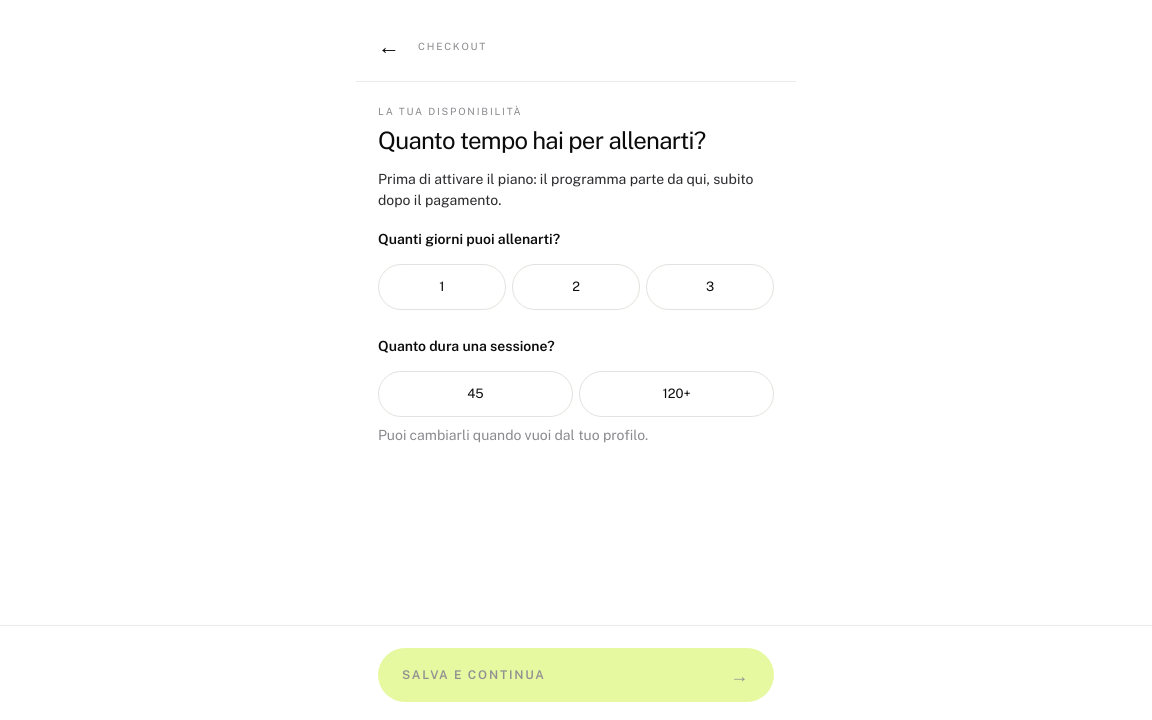
Disponibilità prima del programma › asks days and duration before the checkout, then shows the offer
Expected: the heading "Quanto tempo hai per allenarti?" is shown, [378,126,706,154]
Expected: the radio button named "120+ minuti" reads "120+", [579,371,774,417]
Click the radio button named "2 giorni" at (576, 287), box [512,264,640,310]
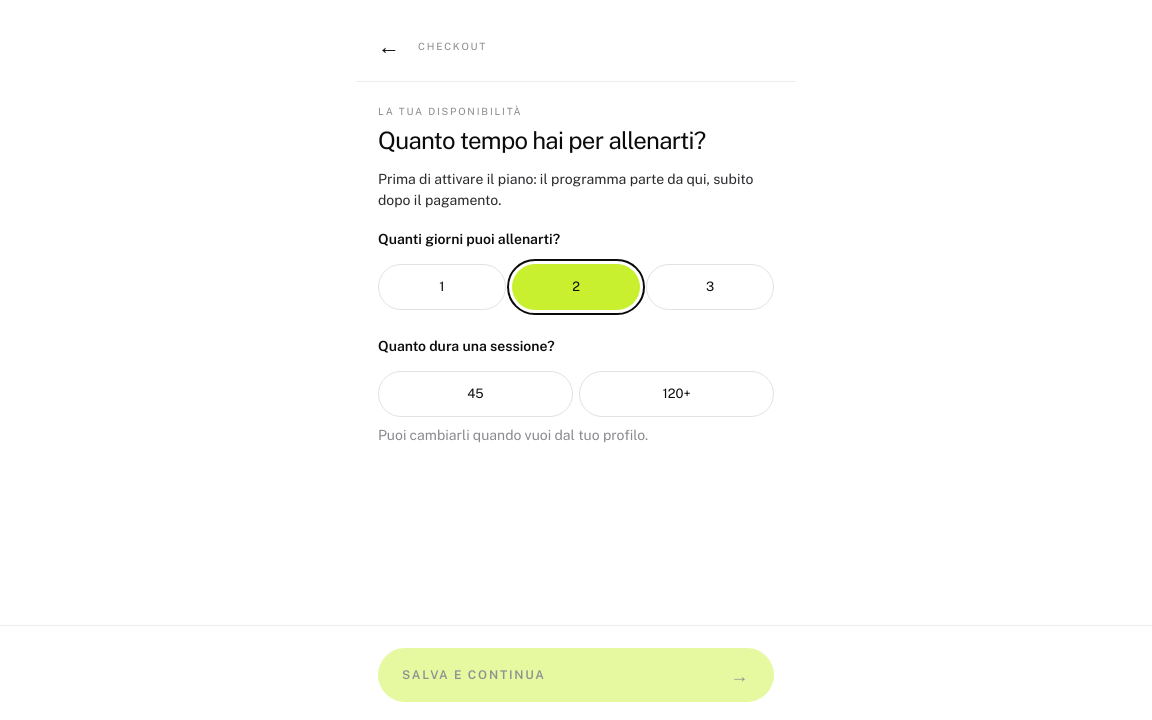
Click the radio button named "120+ minuti" at (676, 394), box [579,371,774,417]
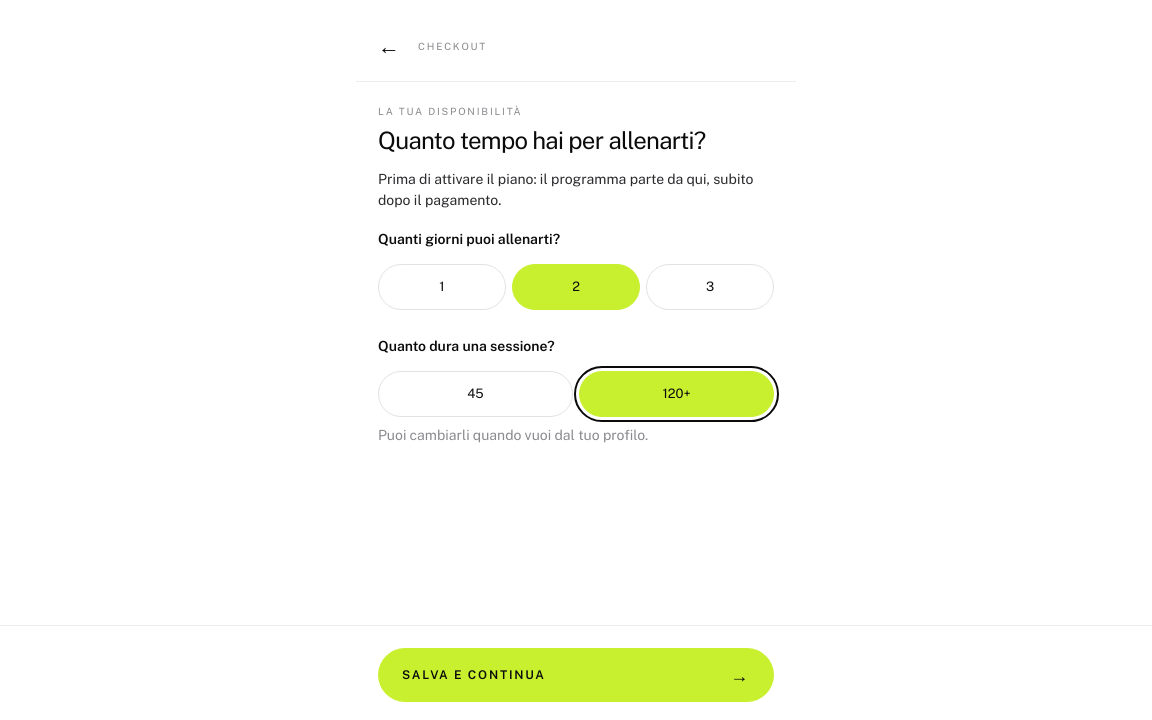
Click the button "Salva e continua →" at (474, 675), box [378,648,774,702]
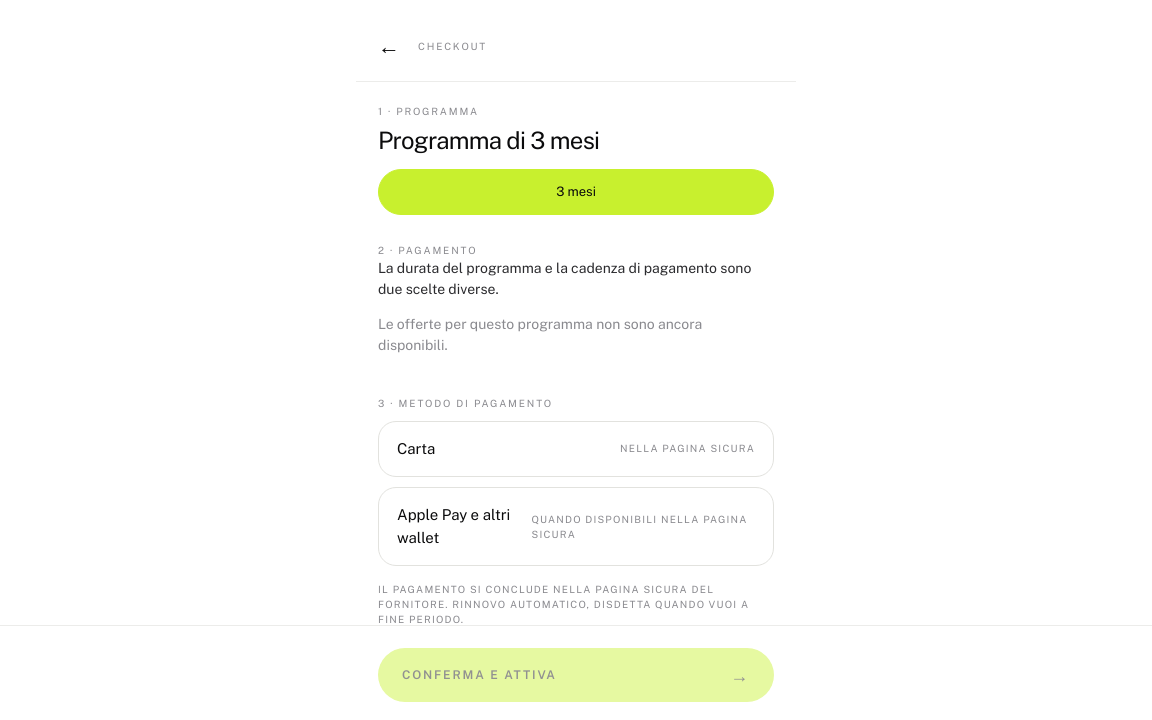
Expected: the heading "Programma di 3 mesi" is shown, [378,126,599,154]
